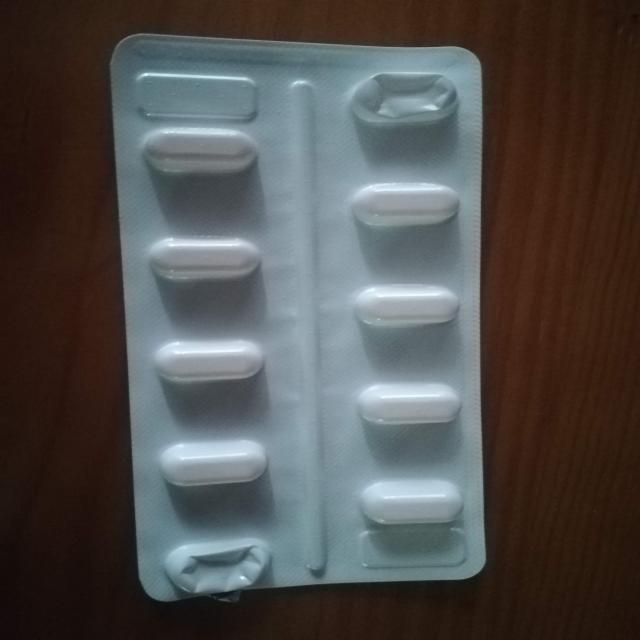Empty: (340, 66, 480, 132), (146, 532, 280, 597)
Pill: (325, 176, 471, 243), (129, 224, 271, 292), (148, 321, 269, 400), (146, 429, 278, 498), (131, 120, 269, 186), (338, 373, 468, 437), (346, 471, 480, 532), (338, 276, 462, 337)
